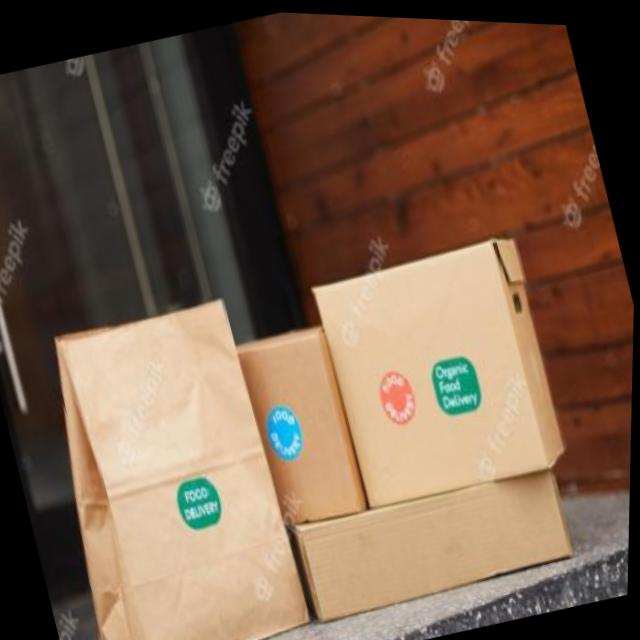box: (21, 272, 329, 640), (306, 208, 609, 522), (126, 247, 383, 559), (286, 434, 611, 640)
